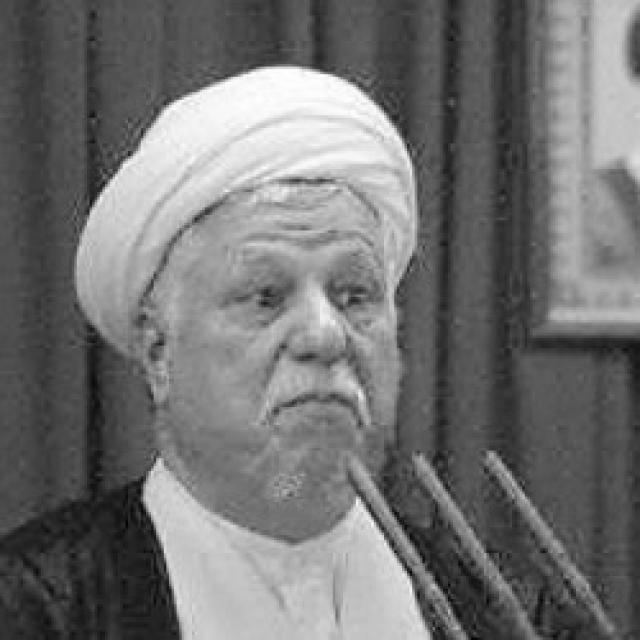real: (171, 184, 398, 496), (215, 257, 387, 326)
